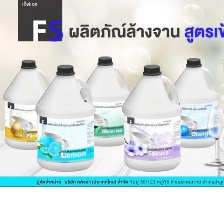cleaning_solution: (119, 61, 184, 173), (33, 62, 96, 173), (74, 53, 135, 148), (1, 57, 58, 151), (164, 55, 220, 150)
